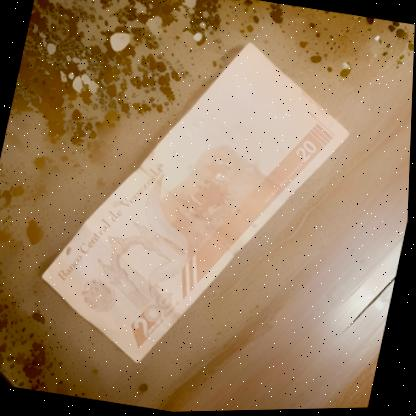twenty-back-vef: (27, 14, 367, 393)
